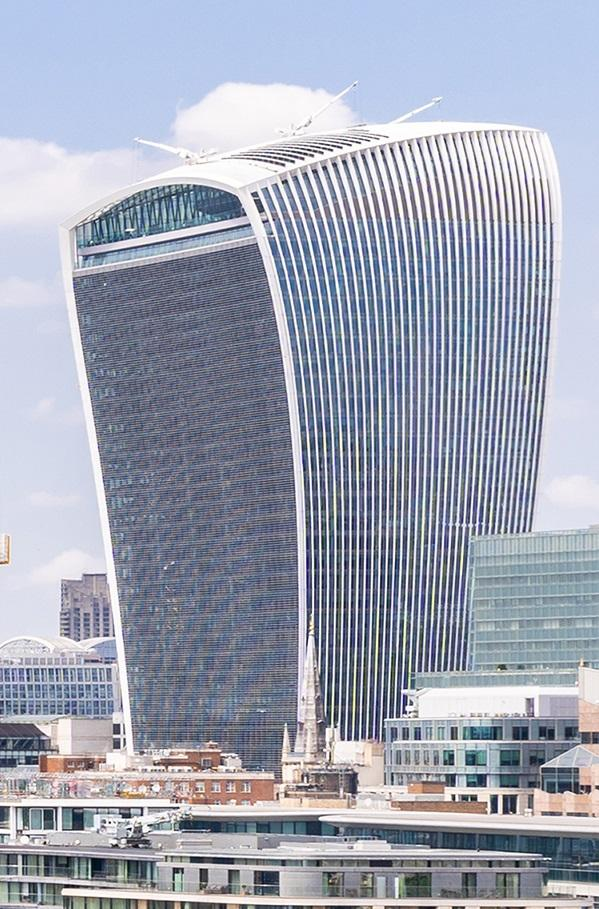Walkie talkie: (47, 95, 561, 745)
